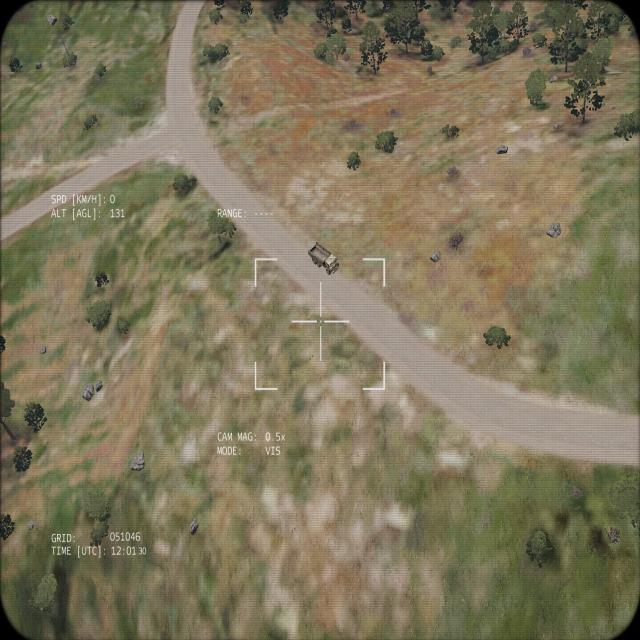truck: (308, 241, 340, 276)
